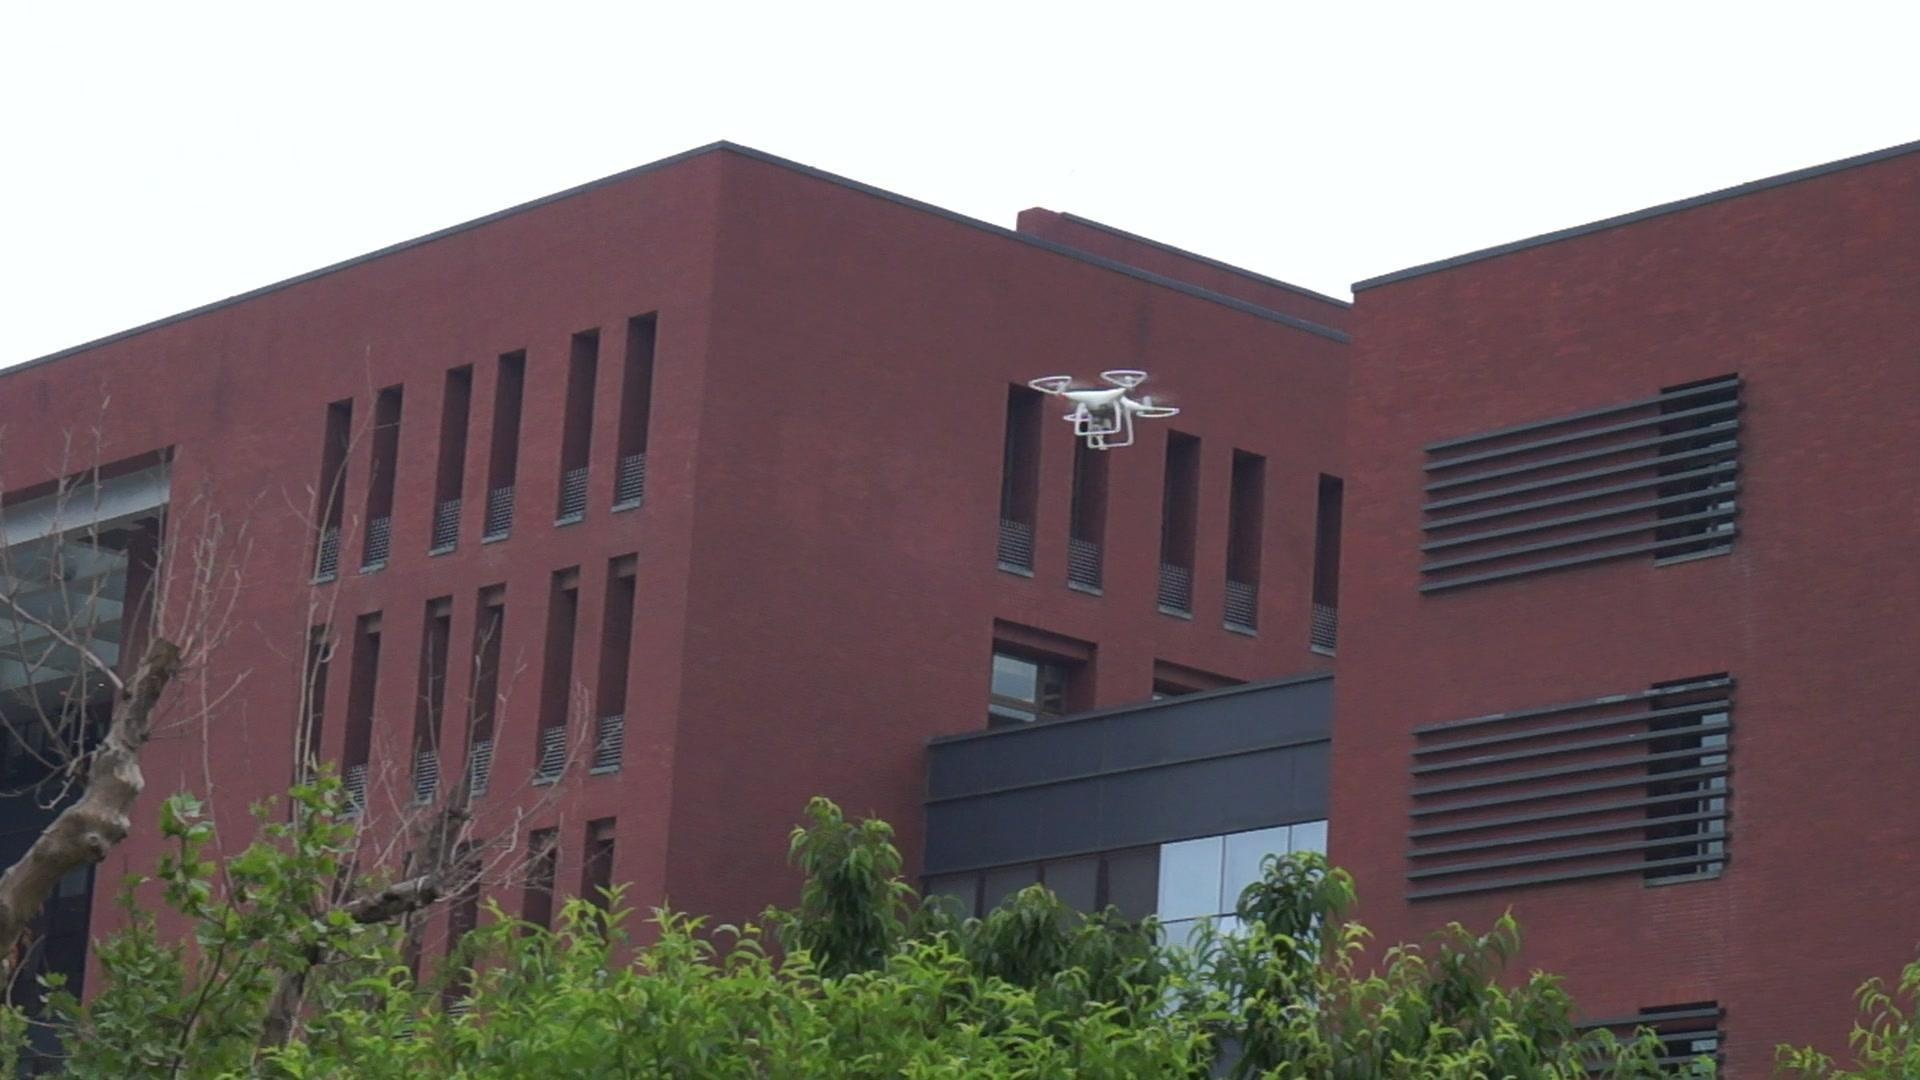UAV: (1029, 369, 1182, 452)
